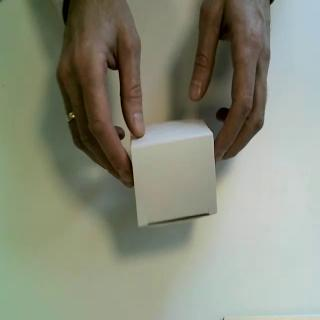apodorm5mg: (131, 118, 220, 231)
